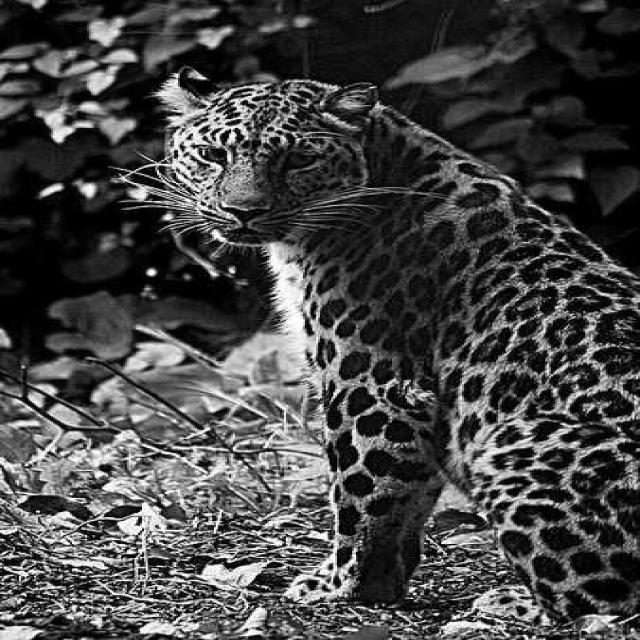Leopard: (108, 64, 638, 630)
